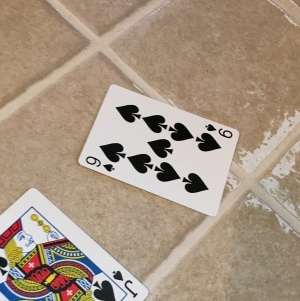card: (74, 85, 240, 216)
